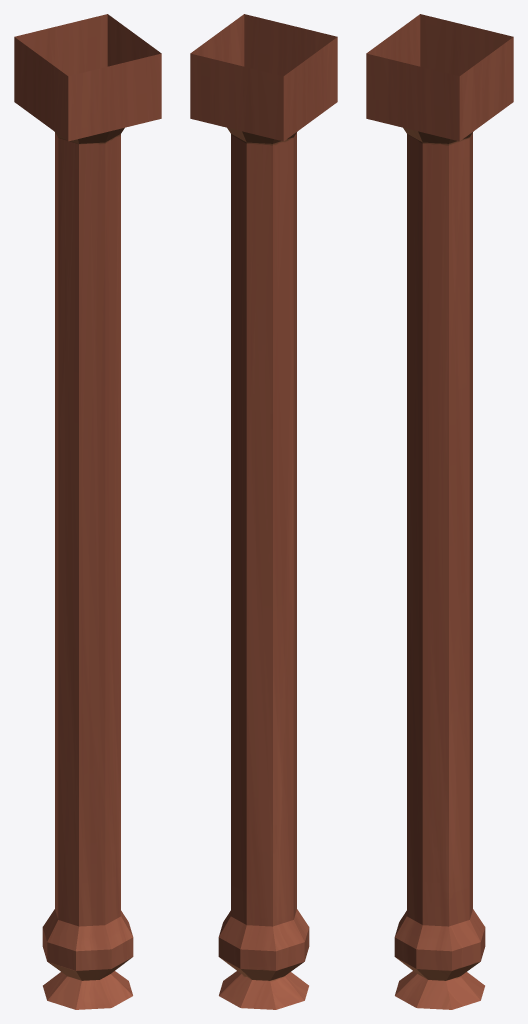
The model's file is BedPillar2_Mod.FBX.
3 renders of one model, left to right at view 1: azimuth 30°, elevation 25°; view 2: azimuth 150°, elevation 25°; view 3: azimuth 330°, elevation 25°, orthographic.
Parts seen in each view (by area): view 1: BedPillar2; view 2: BedPillar2; view 3: BedPillar2.
Part boxes in pixels (x1,y1,x2,y2): BedPillar2: (14,14,161,1009); BedPillar2: (190,14,337,1009); BedPillar2: (366,14,513,1009).
Bounding box in the file's own units: 0.15 × 1.45 × 0.15.
Materials: 1 (1 with a texture image).
